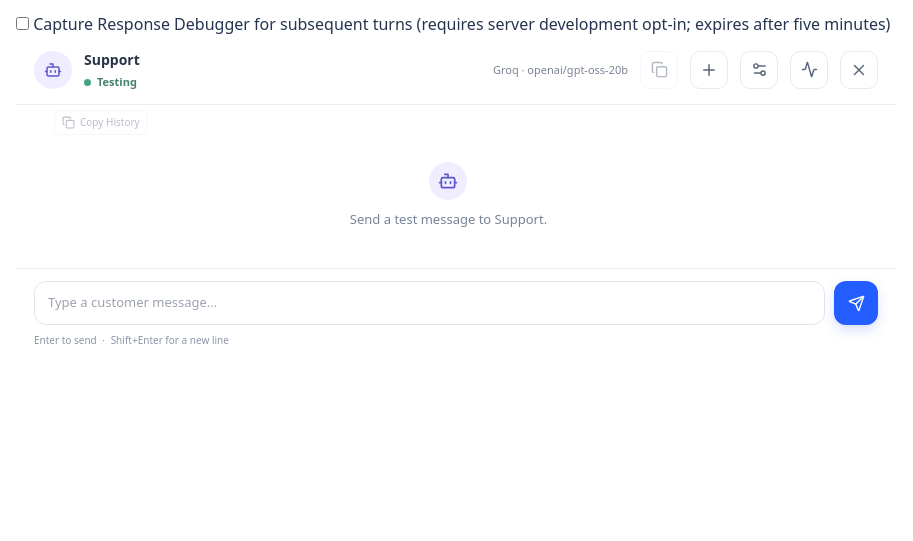
Test: PlaygroundChat › copies only the selected message text and reports clipboard failure
Type "Question to keep separate" into the text box named "Message your assistant" at (430, 303), box [34,281,825,325]
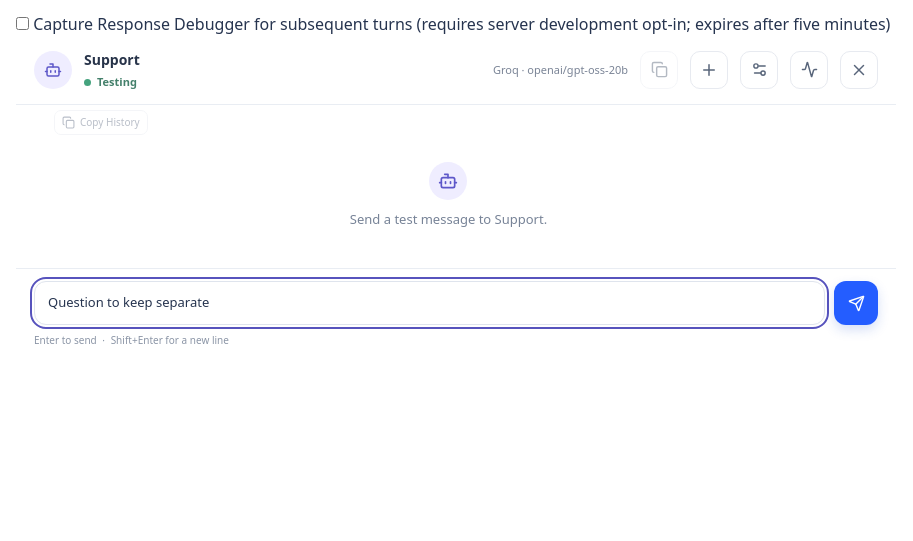
Click the button named "Send message" at (856, 303), box [834,281,878,325]
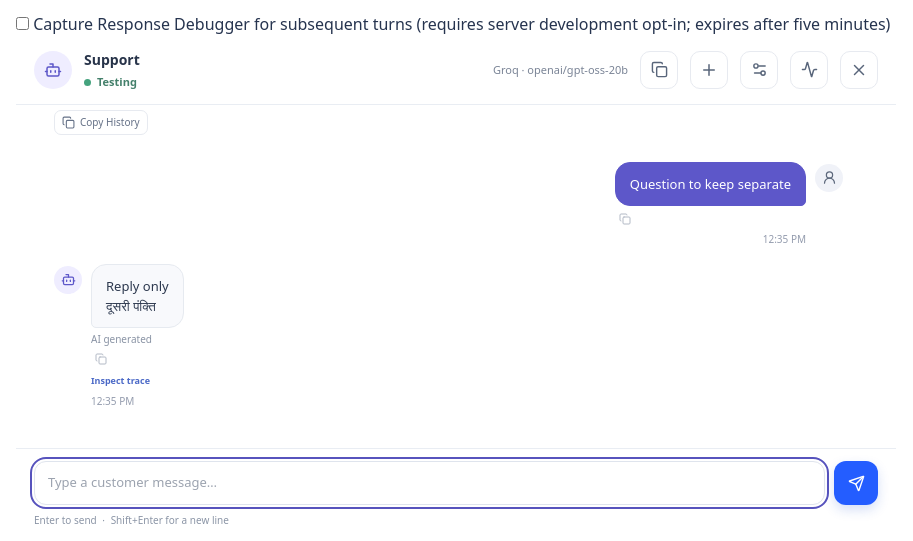
Expected: the text "Reply only" is shown, [106,277,169,315]
Click the button named "Copy message" below "AI generated" at (101, 359), box [91,351,111,367]
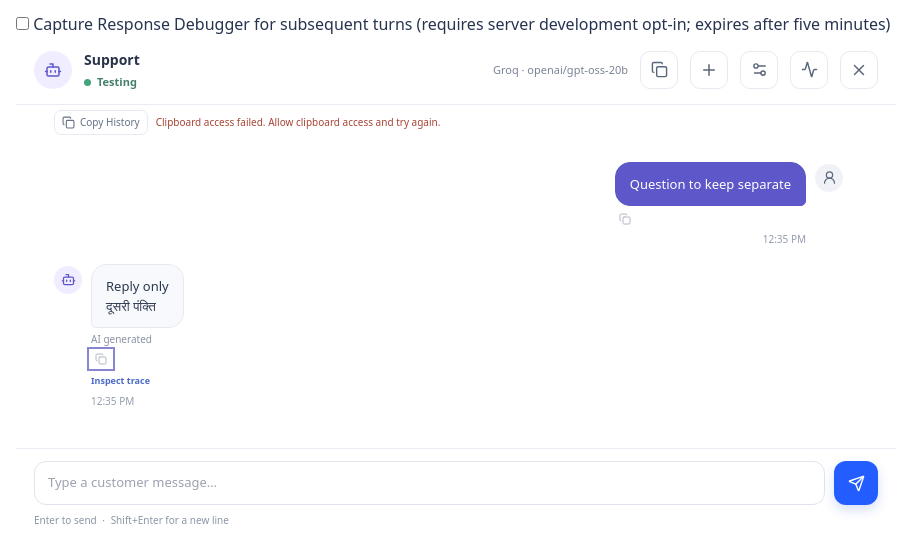
Expected: the message shows "Clipboard access failed", [156,114,440,128]
